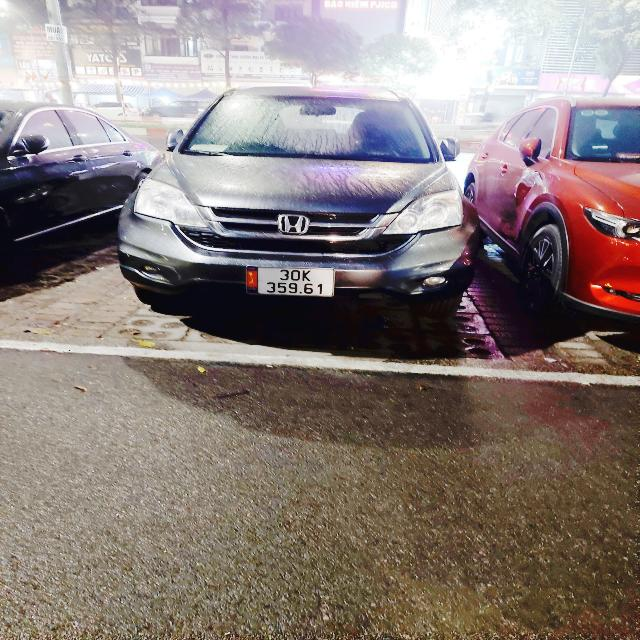license_plate: (257, 265, 339, 299)
